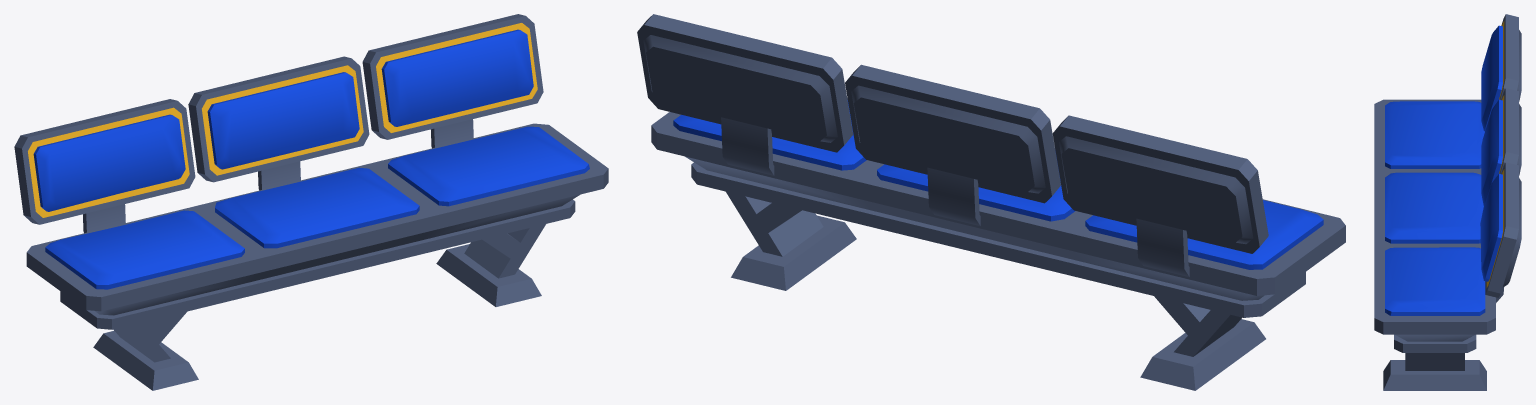
The model's file is bench4.fbx.
3 renders of one model, left to right at view 1: azimuth 30°, elevation 25°; view 2: azimuth 150°, elevation 25°; view 3: azimuth 270°, elevation 25°, orthographic. The views are drawn at different scales.
Parts seen in each view (by area): view 1: SM_Prop_Bench_Seat_02; view 2: SM_Prop_Bench_Seat_02; view 3: SM_Prop_Bench_Seat_02.
Part boxes in pixels (x1,y1,x2,y2): SM_Prop_Bench_Seat_02: (14, 14, 608, 390); SM_Prop_Bench_Seat_02: (637, 14, 1345, 390); SM_Prop_Bench_Seat_02: (1374, 14, 1521, 390).
Size of the model in its own units: 4.44 by 1.75 by 1.24.
